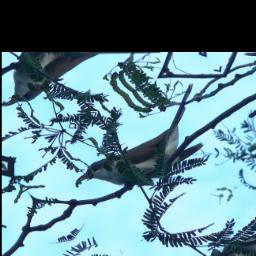Cuckoo: (52, 79, 247, 214)
